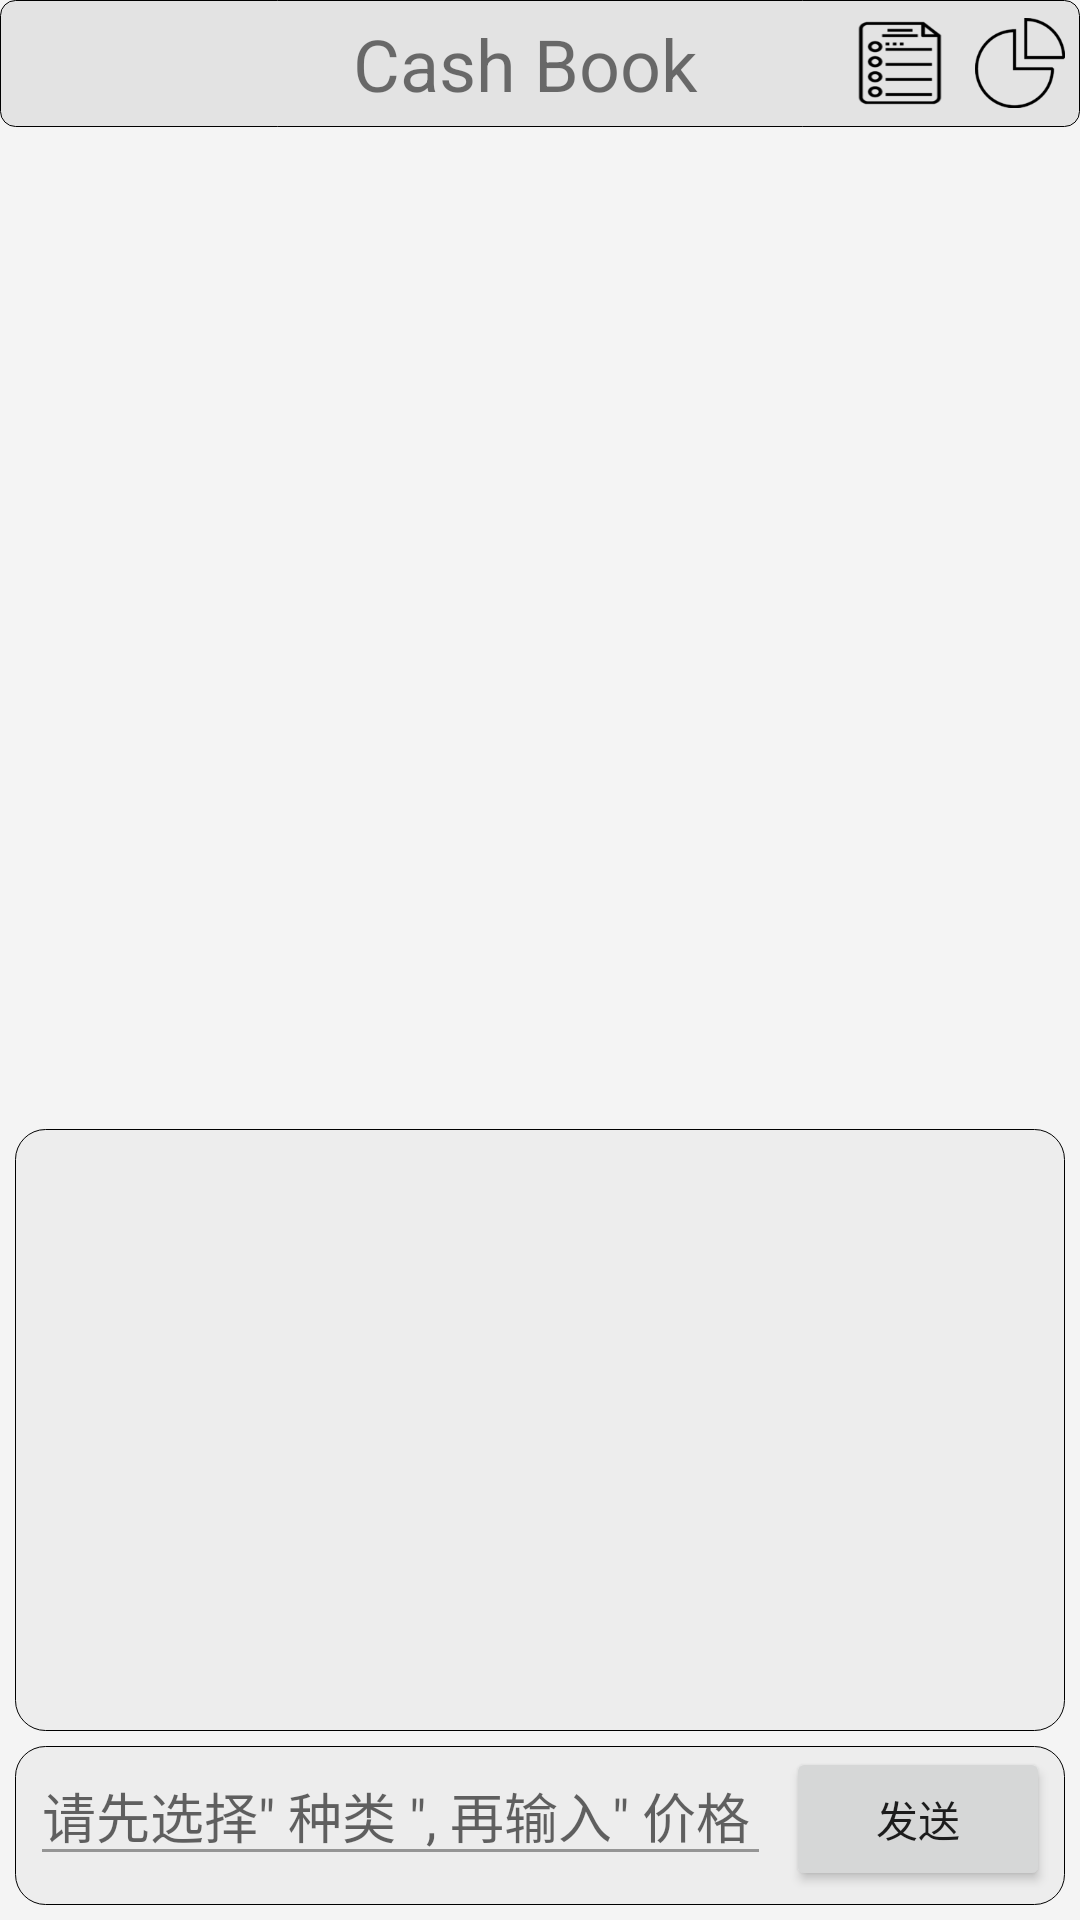

Named icons in this screenshot (1080px x 1920px) and their bounding boxes, {"left": x1, "top": y1, "right": x2, "bottom": y2}:
graph: {"left": 975, "top": 18, "right": 1065, "bottom": 108}
list: {"left": 858, "top": 21, "right": 942, "bottom": 105}
